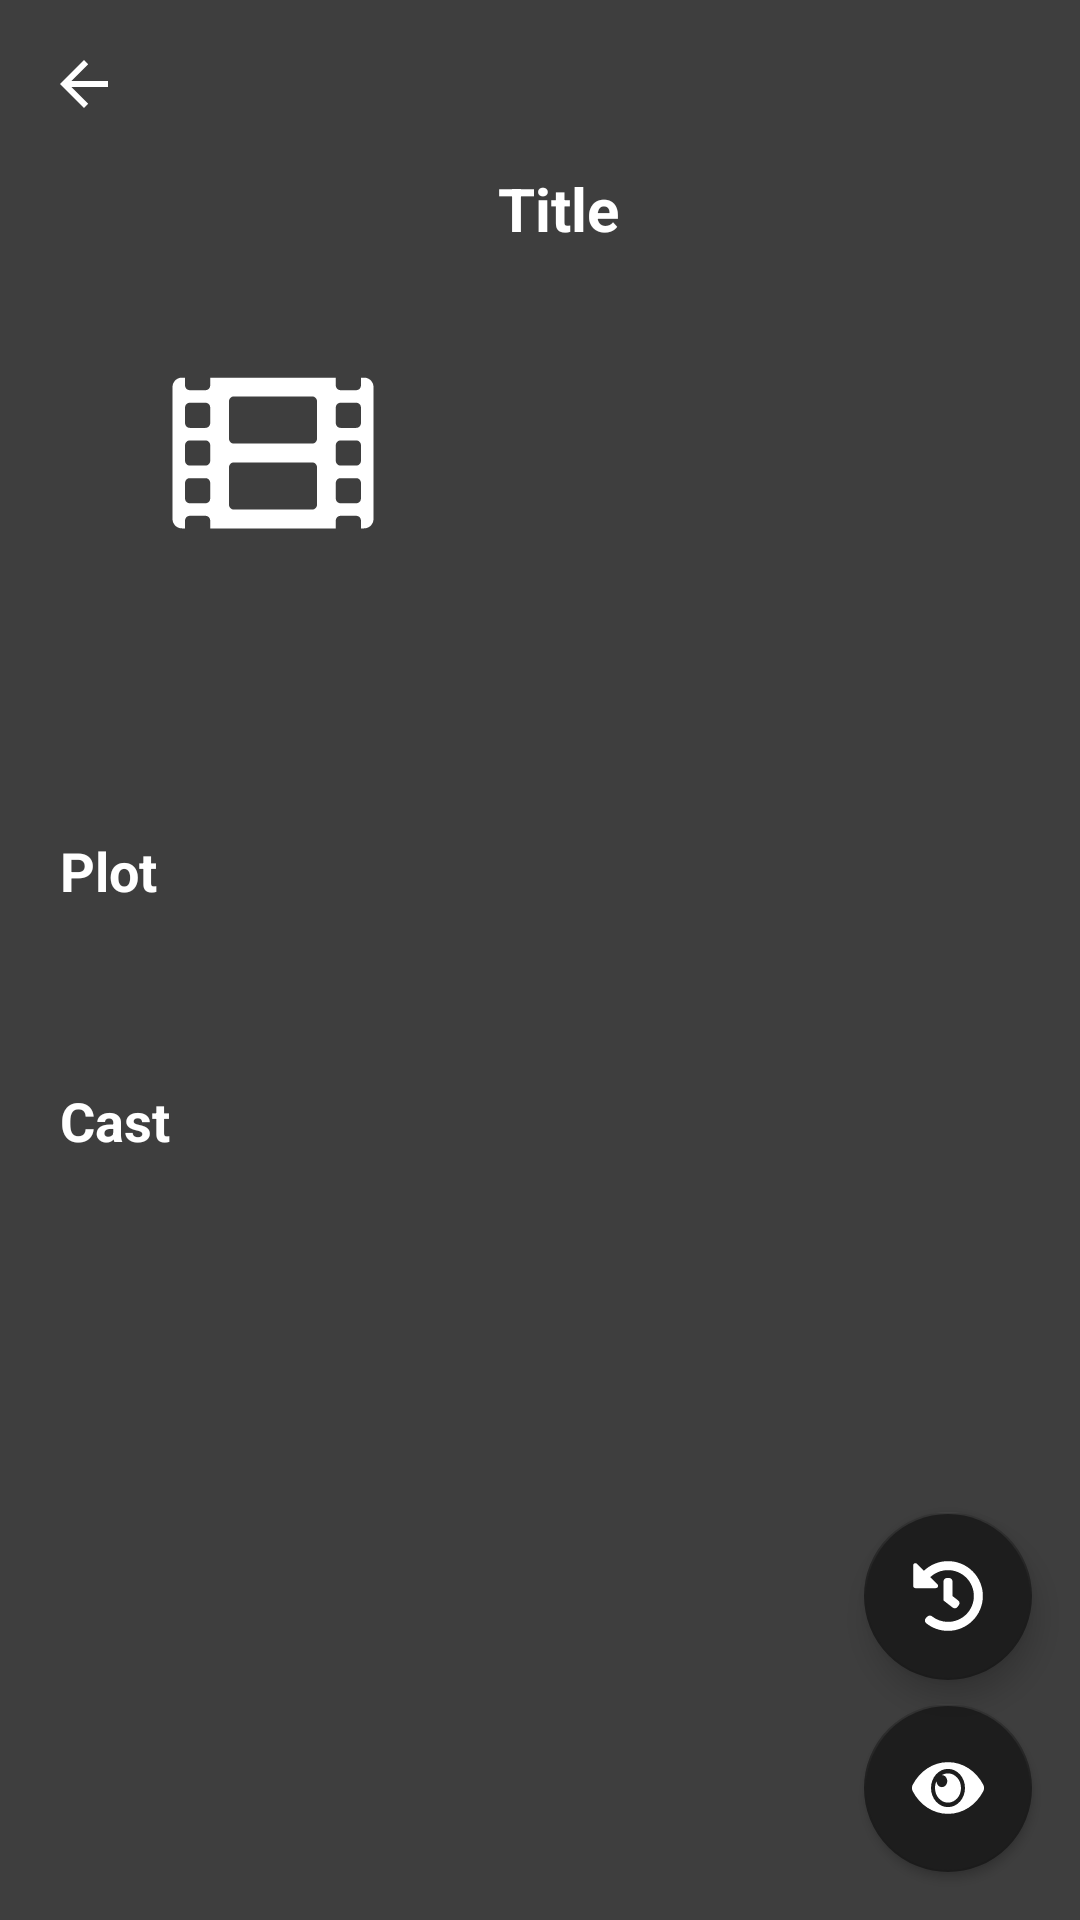

Locate icon controls on the screen. Image size 1080 × 1920, boxes as detection(x1, y1, x2, y2).
history: detection(864, 1514, 1032, 1680)
watchlist: detection(864, 1706, 1032, 1872)
